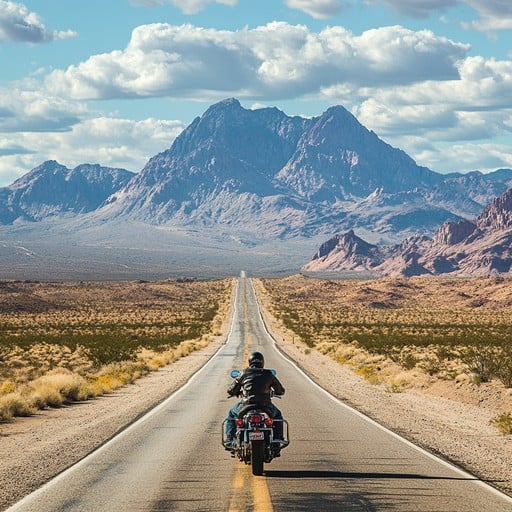Motorcycle: (218, 393, 305, 472)
